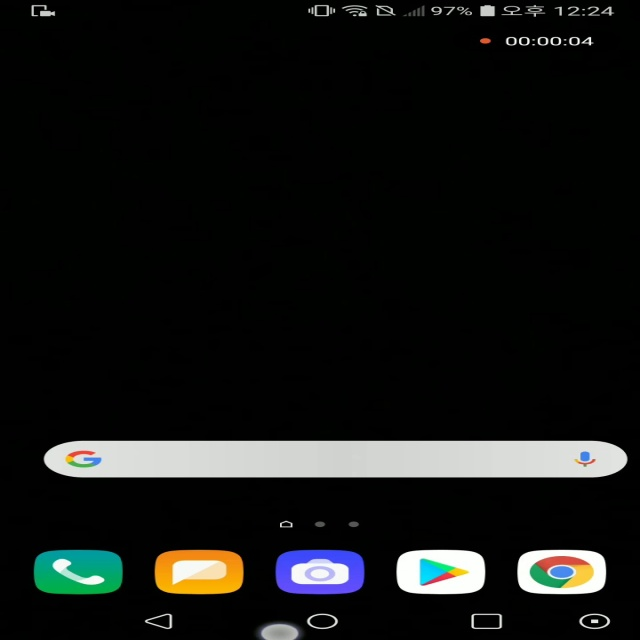Cursor: (259, 618, 304, 640)
